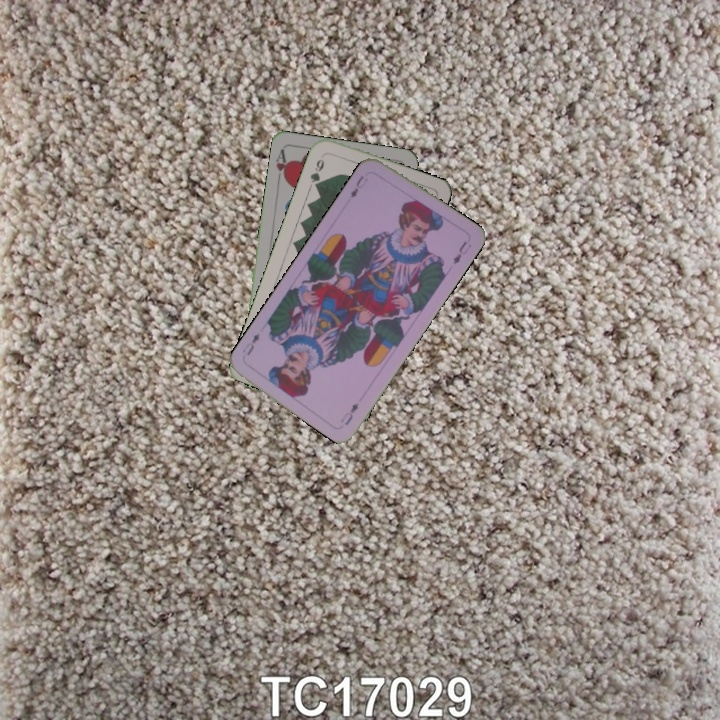EU: (337, 399, 361, 428), (346, 171, 368, 201)
G9: (306, 155, 327, 191)
HA: (272, 145, 292, 186)
